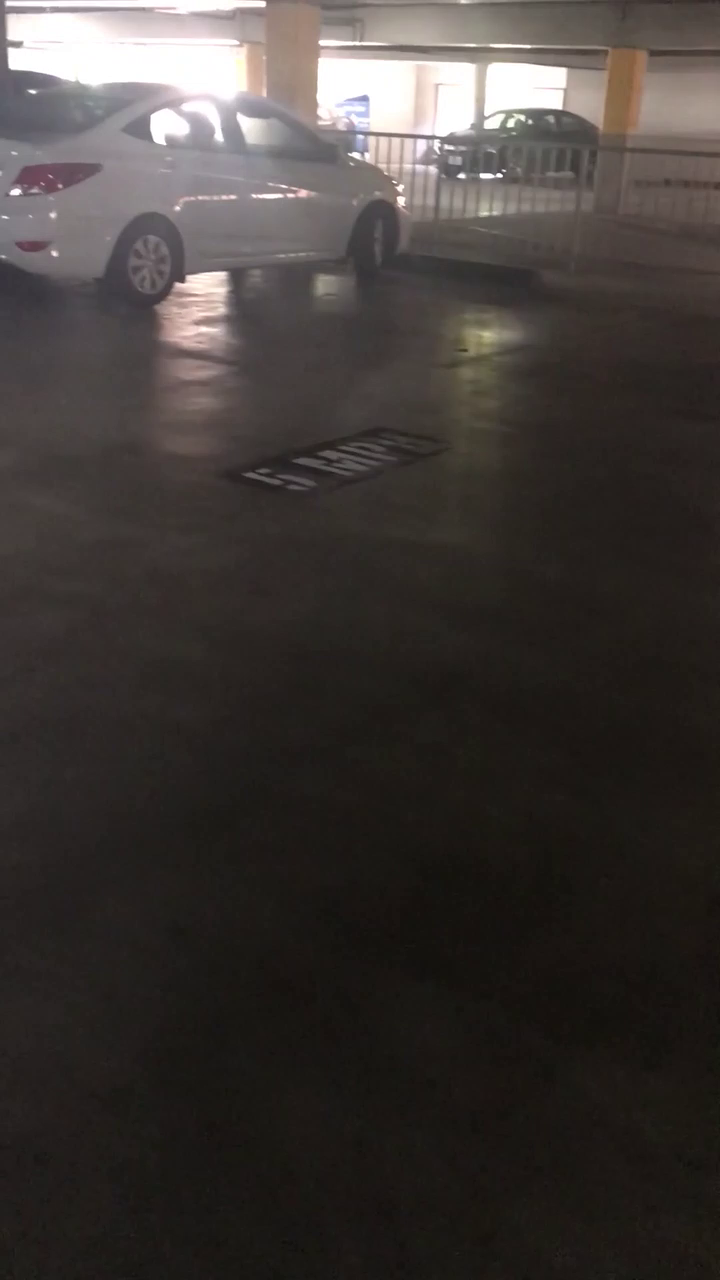car: (0, 51, 399, 317)
